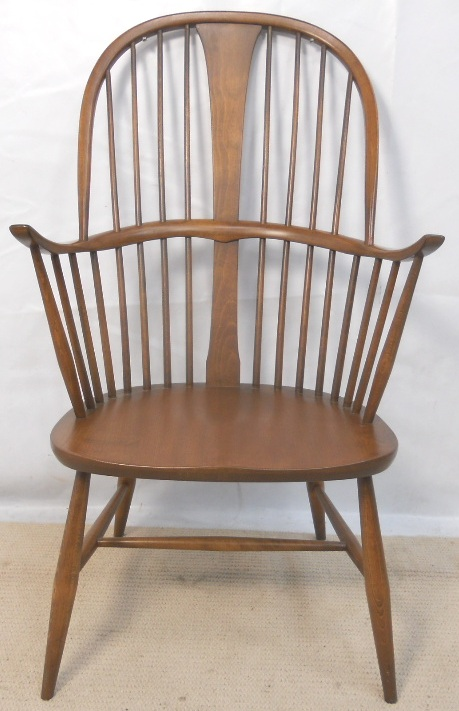chairs: (7, 14, 459, 703)
